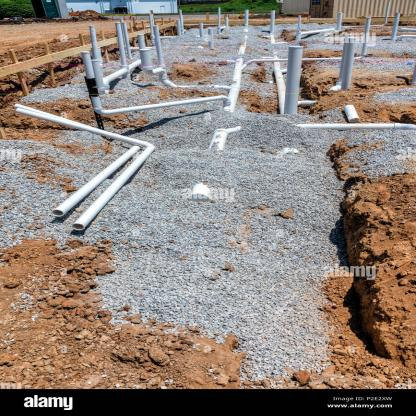PVC: (12, 104, 156, 230), (222, 10, 371, 113), (261, 2, 390, 114), (81, 52, 232, 114), (140, 49, 233, 90), (93, 58, 141, 94), (284, 47, 303, 114), (206, 125, 243, 151), (342, 39, 357, 90), (392, 13, 416, 41), (296, 124, 414, 129), (116, 23, 128, 68), (120, 19, 132, 58), (154, 26, 165, 68), (187, 184, 210, 202), (161, 20, 180, 38), (89, 26, 99, 60), (343, 105, 359, 123), (218, 8, 228, 34), (149, 15, 156, 45), (179, 9, 187, 34), (298, 101, 317, 106), (198, 23, 203, 39), (209, 29, 213, 47), (399, 28, 416, 31)
